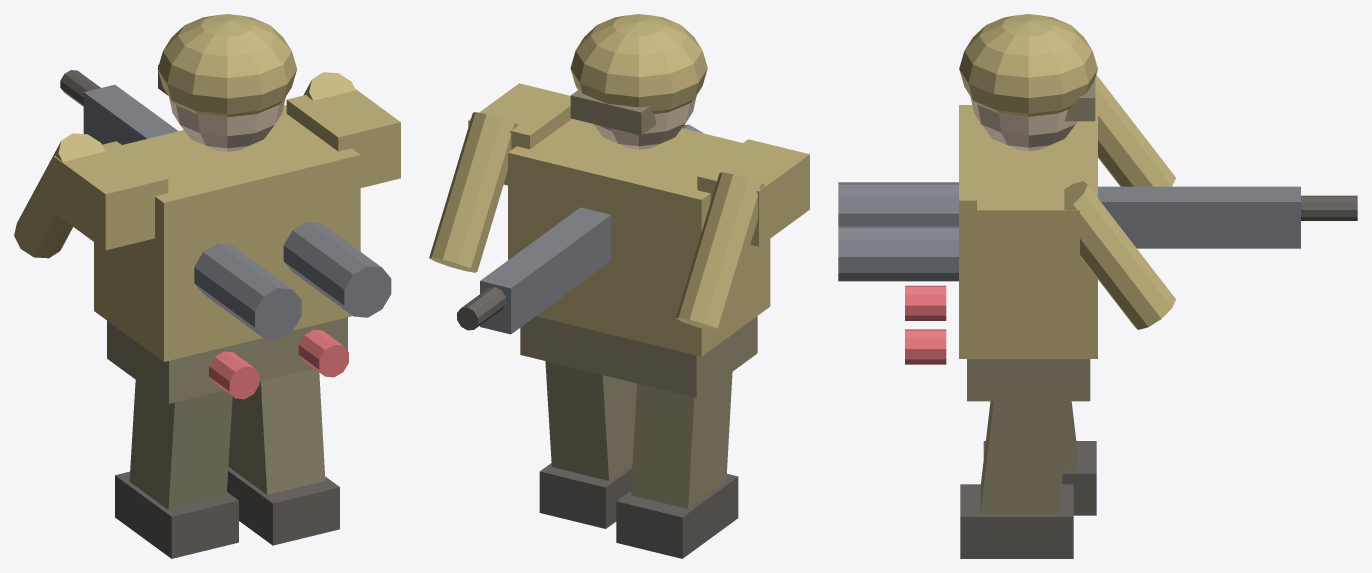
File: dm_jumptrooper.glb
3 views of the same model, side by side, from view 1: azimuth 30°, elevation 25°; view 2: azimuth 150°, elevation 25°; view 3: azimuth 270°, elevation 25° (orthographic).
Visible parts, largest first — view 1: soldier; view 2: soldier; view 3: soldier.
Part boxes in pixels (<box>): soldier: <box>14,14,400,558</box>; soldier: <box>429,14,809,558</box>; soldier: <box>838,14,1357,558</box>.
Size of what is drawn, in the model's own units: 0.66 by 1.07 by 1.01.
